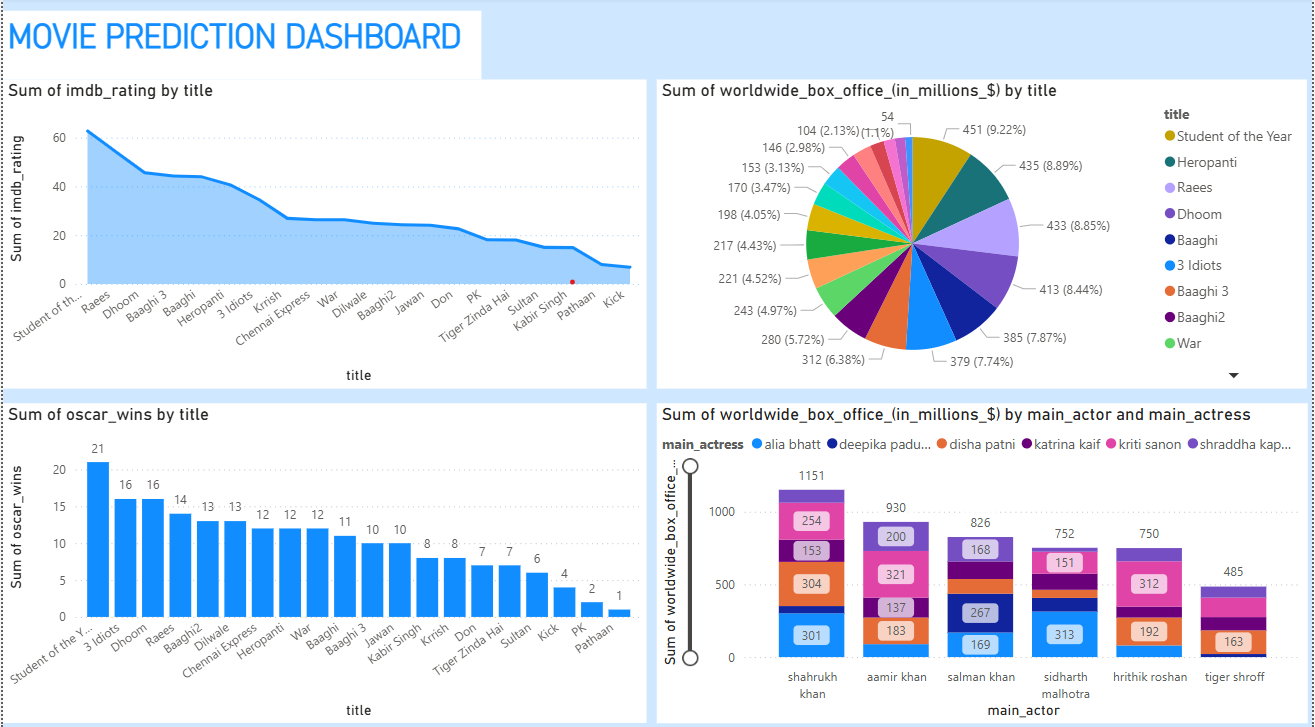

The page's visual inventory and layout, read from the dashboard file:
{"tool":"powerbi","page":{"name":"Page 1","canvas":[1280,720],"ordinal":0},"visuals":[{"type":"textbox","box":[0,13.5,468.3,67.3],"z":0},{"type":"stackedAreaChart","fields":{"Category":["Sheet1.title"],"Y":["Sheet1.imdb_rating"]},"box":[0,80.7,629.8,302],"z":1},{"type":"columnChart","fields":{"Category":["Sheet1.title"],"Y":["Sheet1.oscar_wins"]},"box":[0,397.4,629.8,313],"z":2},{"type":"pieChart","fields":{"Category":["Sheet1.title"],"Y":["Sheet1.worldwide_box_office_(in_millions_$)"]},"box":[639.5,80.7,635.9,302],"z":3},{"type":"lineStackedColumnComboChart","fields":{"Category":["Sheet1.main_actor"],"Series":["Sheet1.main_actress"],"Y":["Sheet1.worldwide_box_office_(in_millions_$)"]},"box":[639.5,397.4,635.9,313],"z":4}]}

Visuals, with their boxes in screenshot pixels (x1, y1, x2, y2), scaled from the page's 1280x720 canvas onto the 1315x727 screenshot:
textbox: 0:14:481:82
stackedAreaChart - Sheet1.title x Sheet1.imdb_rating: 0:81:647:386
columnChart - Sheet1.title x Sheet1.oscar_wins: 0:401:647:717
pieChart - Sheet1.title x Sheet1.worldwide_box_office_(in_millions_$): 657:81:1310:386
lineStackedColumnComboChart - Sheet1.main_actor x Sheet1.main_actress: 657:401:1310:717
